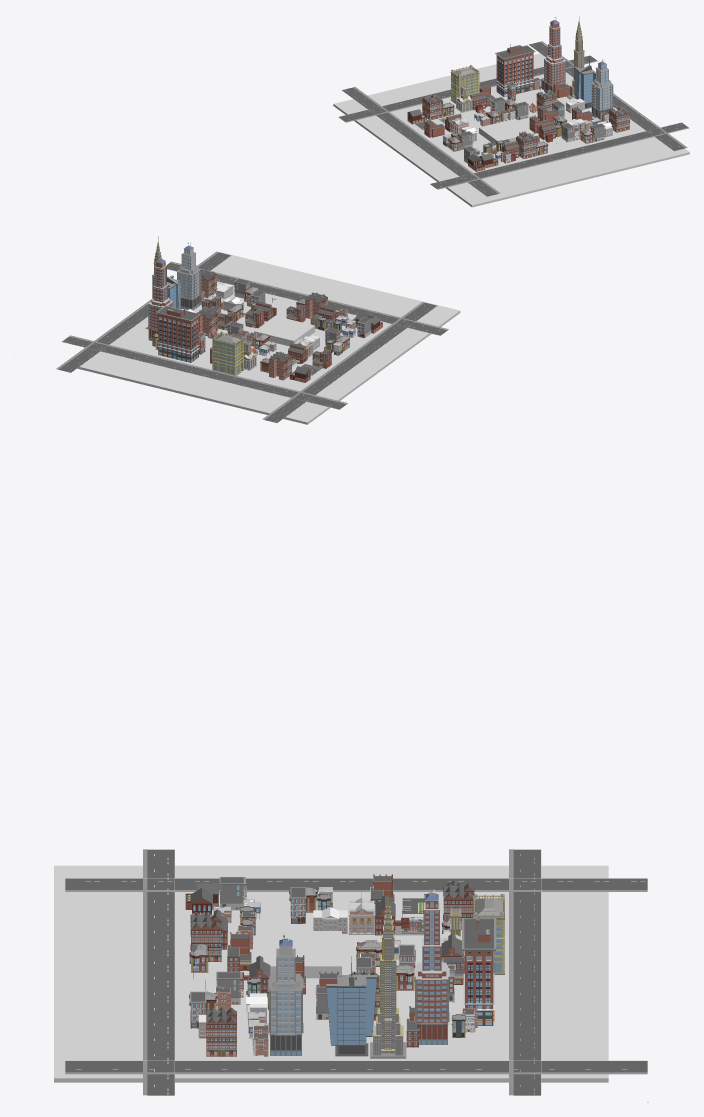
File: 项目二草模.fbx
3 views of the same model, one above another, from view 1: azimuth 30°, elevation 25°; view 2: azimuth 150°, elevation 25°; view 3: azimuth 270°, elevation 25° (orthographic). The views are drawn at different scales.
Parts seen in each view (by area): view 1: 地面, huitugou_5505_105.001, huitugou_5505_79, huitugou_5505_140, huitugou_5505_120.162, 二层广场, huitugou_5505_113, huitugou_5505_135.003, huitugou_5505_135.005, huitugou_5505_135, huitugou_5505_112.064, huitugou_5505_135.004 (+1 smaller); view 2: 地面, huitugou_5505_105.001, huitugou_5505_113, huitugou_5505_120.162, 二层广场, huitugou_5505_140, huitugou_5505_79, huitugou_5505_135.003, huitugou_5505_135.004, huitugou_5505_135; view 3: 地面, huitugou_5505_79, huitugou_5505_140, huitugou_5505_120.162, huitugou_5505_105.001, 二层广场, huitugou_5505_135.005, huitugou_5505_113, huitugou_5505_135, huitugou_5505_81.126, huitugou_5505_135.003, huitugou_5505_82.164.
Boxes of the visible parts, left/top/right/bottom form: 地面: left=333, top=53, right=689, bottom=207; huitugou_5505_105.001: left=495, top=44, right=535, bottom=96; huitugou_5505_79: left=566, top=16, right=595, bottom=108; huitugou_5505_140: left=543, top=17, right=566, bottom=92; huitugou_5505_120.162: left=591, top=59, right=613, bottom=118; 二层广场: left=479, top=119, right=534, bottom=143; huitugou_5505_113: left=450, top=65, right=479, bottom=103; huitugou_5505_135.003: left=422, top=94, right=442, bottom=119; huitugou_5505_135.005: left=609, top=107, right=629, bottom=132; huitugou_5505_135: left=516, top=133, right=536, bottom=158; huitugou_5505_112.064: left=455, top=84, right=472, bottom=112; huitugou_5505_135.004: left=536, top=89, right=557, bottom=110; 地面: left=77, top=252, right=460, bottom=424; huitugou_5505_105.001: left=156, top=304, right=200, bottom=362; huitugou_5505_113: left=212, top=331, right=243, bottom=375; huitugou_5505_120.162: left=176, top=242, right=201, bottom=310; 二层广场: left=254, top=316, right=315, bottom=346; huitugou_5505_140: left=148, top=256, right=172, bottom=340; huitugou_5505_79: left=145, top=236, right=180, bottom=329; huitugou_5505_135.003: left=269, top=351, right=291, bottom=380; huitugou_5505_135.004: left=197, top=308, right=218, bottom=336; huitugou_5505_135: left=305, top=292, right=327, bottom=318; 地面: left=54, top=865, right=608, bottom=1082; huitugou_5505_79: left=326, top=888, right=406, bottom=1058; huitugou_5505_140: left=414, top=889, right=449, bottom=1044; huitugou_5505_120.162: left=268, top=932, right=303, bottom=1055; huitugou_5505_105.001: left=462, top=909, right=496, bottom=1025; 二层广场: left=265, top=931, right=341, bottom=978; huitugou_5505_135.005: left=206, top=1007, right=236, bottom=1056; huitugou_5505_113: left=473, top=894, right=504, bottom=974; huitugou_5505_135: left=191, top=913, right=221, bottom=961; huitugou_5505_81.126: left=348, top=891, right=375, bottom=934; huitugou_5505_135.003: left=443, top=883, right=474, bottom=929; huitugou_5505_82.164: left=227, top=932, right=251, bottom=971.
Bounding box in the file's own units: 20903 × 2848 × 9158.
